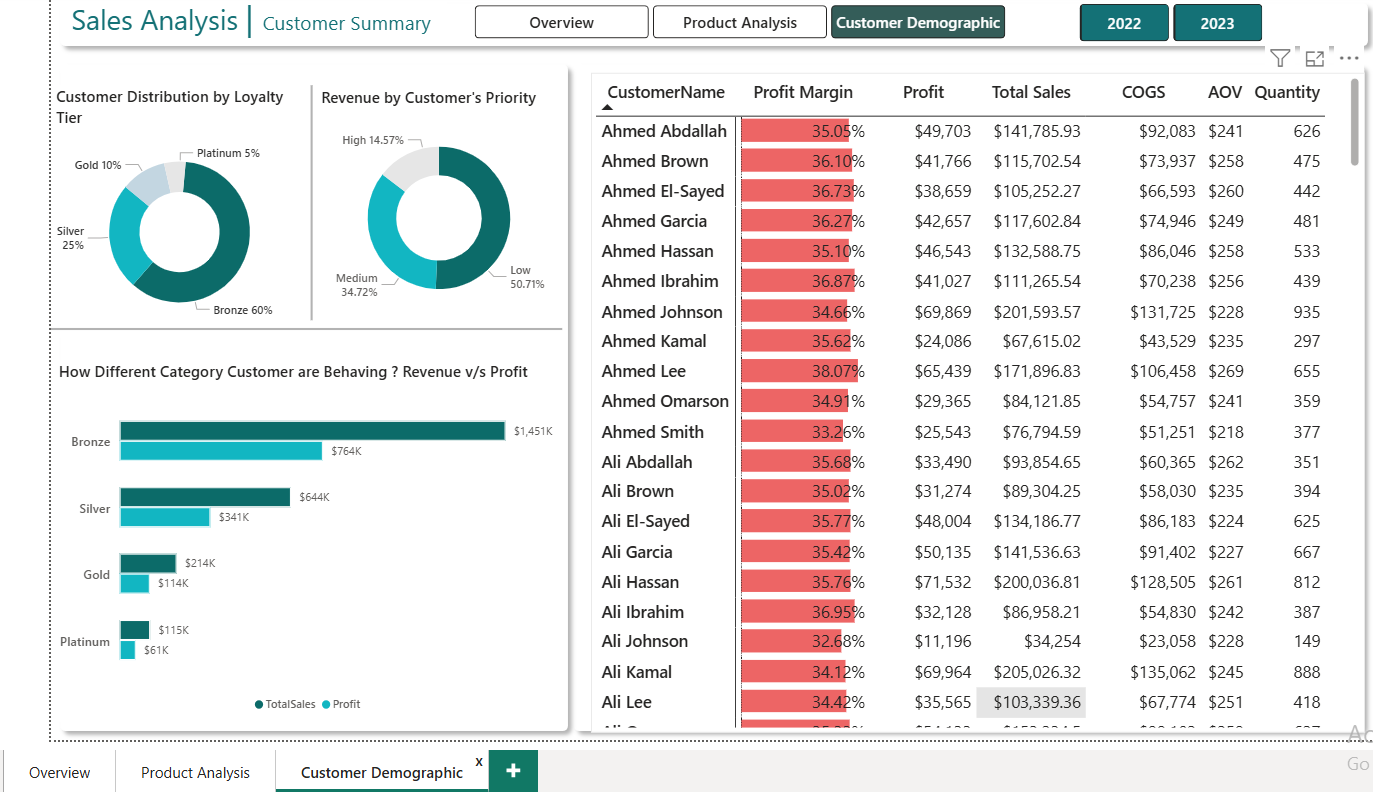

What the dashboard file says about the page in this screenshot:
{"tool":"powerbi","page":{"name":"Customer Demographic","canvas":[1280,720],"ordinal":2},"visuals":[{"type":"shape","box":[0,0,1280,59.1],"z":0},{"type":"shape","box":[495.8,58.9,780.6,661.1],"z":1000},{"type":"shape","box":[0,59.1,507.9,661.1],"z":2000},{"type":"pivotTable","fields":{"Values":["Measures (2).Profit Margin","Measures (2).Profit","Measures (2).TotalSales","Measures (2).COGS","Measures (2).AOV","Sum(FactSales.Quantity)"],"Rows":["DimCustomer.CustomerName"]},"box":[521.2,76,746.8,637],"z":3000},{"type":"clusteredBarChart","title":"How Different Category Customer are Behaving ? Revenue v/s Profit  ","fields":{"Category":["DimCustomer.LoyaltyTier"],"Y":["Measures (2).TotalSales","Measures (2).Profit"]},"box":[2.4,353.5,493.4,349.9],"z":4000},{"type":"textbox","box":[14.5,0,368,45.8],"z":5000},{"type":"pageNavigator","box":[409,11.4,513.9,32.6],"z":6000},{"type":"advancedSlicerVisual","fields":{"Values":["Clendar.Year"]},"box":[987.8,7.5,186.4,40.3],"z":7000},{"type":"donutChart","title":"Customer Distribution by Loyalty Tier","fields":{"Y":["Measures (2).Customer Count"],"Category":["DimCustomer.LoyaltyTier"]},"box":[0,88.1,248.5,243.7],"z":8000},{"type":"shape","box":[247.3,88.1,8.4,226.8],"z":9000},{"type":"donutChart","title":"Revenue by Customer''s Priority","fields":{"Y":["Measures (2).TotalSales"],"Category":["FactSales.OrderPriority"]},"box":[255.8,89.3,237.7,234],"z":10000},{"type":"shape","box":[0,331.8,493.4,19.3],"z":11000}]}

Visuals, with their boxes on the page's 1280x720 design canvas (x1, y1, x2, y2). These are canvas units, not pixel positions in the 1373x792 screenshot, which may show the page scaled, cropped or inside an application window:
shape: Rect(0, 0, 1280, 59)
shape: Rect(496, 59, 1276, 720)
shape: Rect(0, 59, 508, 720)
pivotTable - Measures (2).Profit Margin x Measures (2).Profit: Rect(521, 76, 1268, 713)
"How Different Category Customer are Behaving ? Revenue v/s Profit  " clusteredBarChart: Rect(2, 354, 496, 703)
textbox: Rect(14, 0, 382, 46)
pageNavigator: Rect(409, 11, 923, 44)
advancedSlicerVisual - Clendar.Year: Rect(988, 8, 1174, 48)
"Customer Distribution by Loyalty Tier" donutChart: Rect(0, 88, 248, 332)
shape: Rect(247, 88, 256, 315)
"Revenue by Customer''s Priority" donutChart: Rect(256, 89, 494, 323)
shape: Rect(0, 332, 493, 351)
